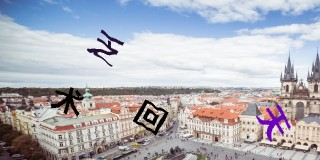乏: (87, 29, 124, 67)
回: (134, 99, 168, 136)
天: (255, 105, 291, 142)
术: (51, 87, 84, 116)
